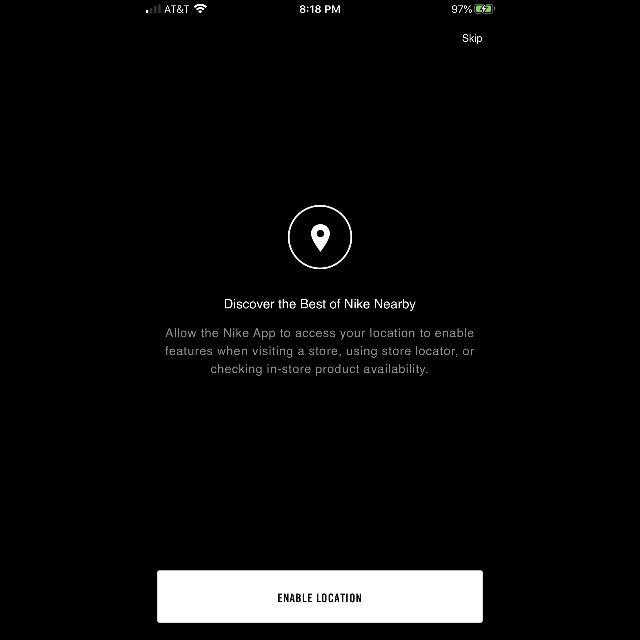image: (288, 205, 352, 269)
text: (166, 328, 474, 376), (224, 298, 416, 312), (462, 34, 482, 44)
textbutton: (158, 571, 482, 623)
uppertaskbar: (140, 0, 500, 14)
